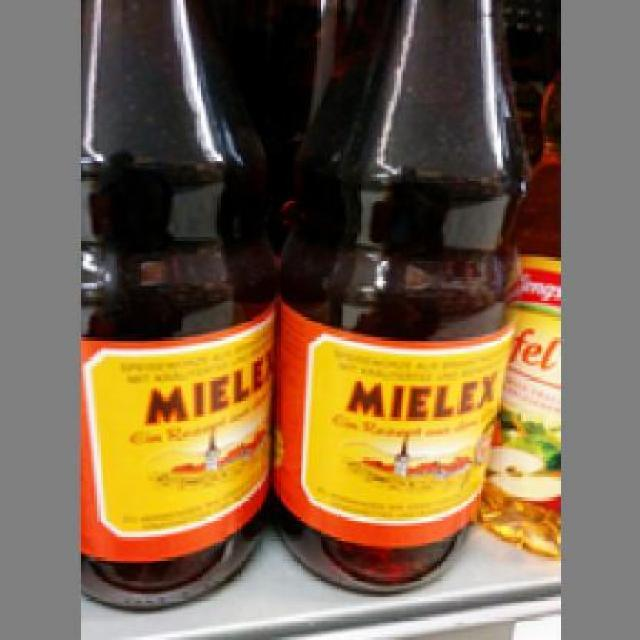Vinegar: (280, 0, 526, 586), (78, 0, 272, 612)
